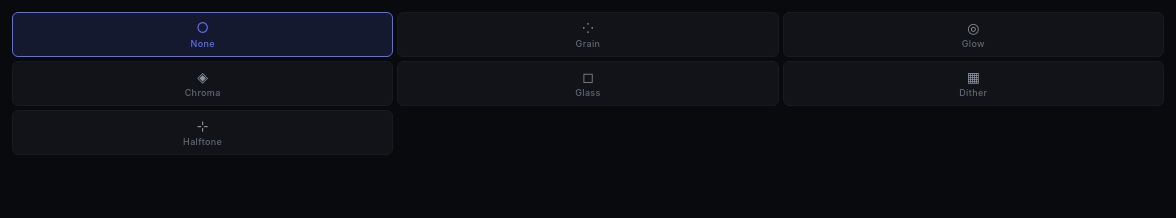
Scenario: EffectsPanel › shows the intensity slider only for post-process effects
The width and height of the screenshot is (1176, 218).
Check: the field labelled "Intensity" is not shown
Click the button "◎ Glow": (973,34) x1=783 y1=12 x2=1164 y2=57
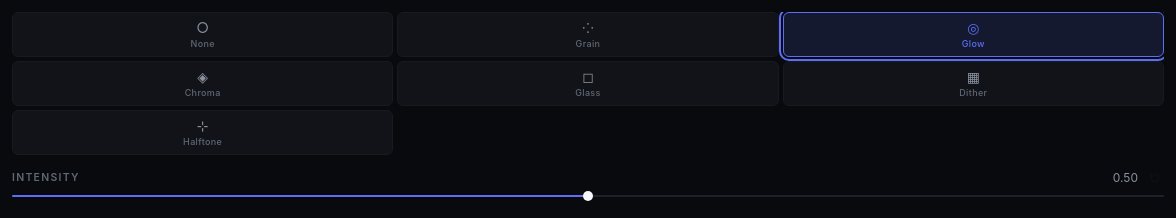
Check: the slider named "Intensity" is shown, box x1=12 y1=195 x2=1164 y2=197
Click the button "⁘ Grain": (588,34) x1=397 y1=12 x2=779 y2=57
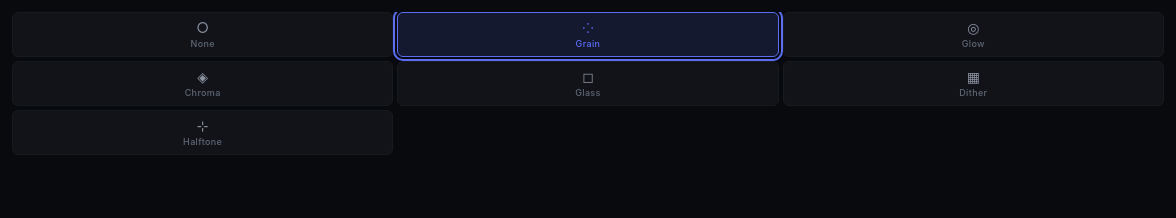
Check: the label labelled "Intensity" is gone
